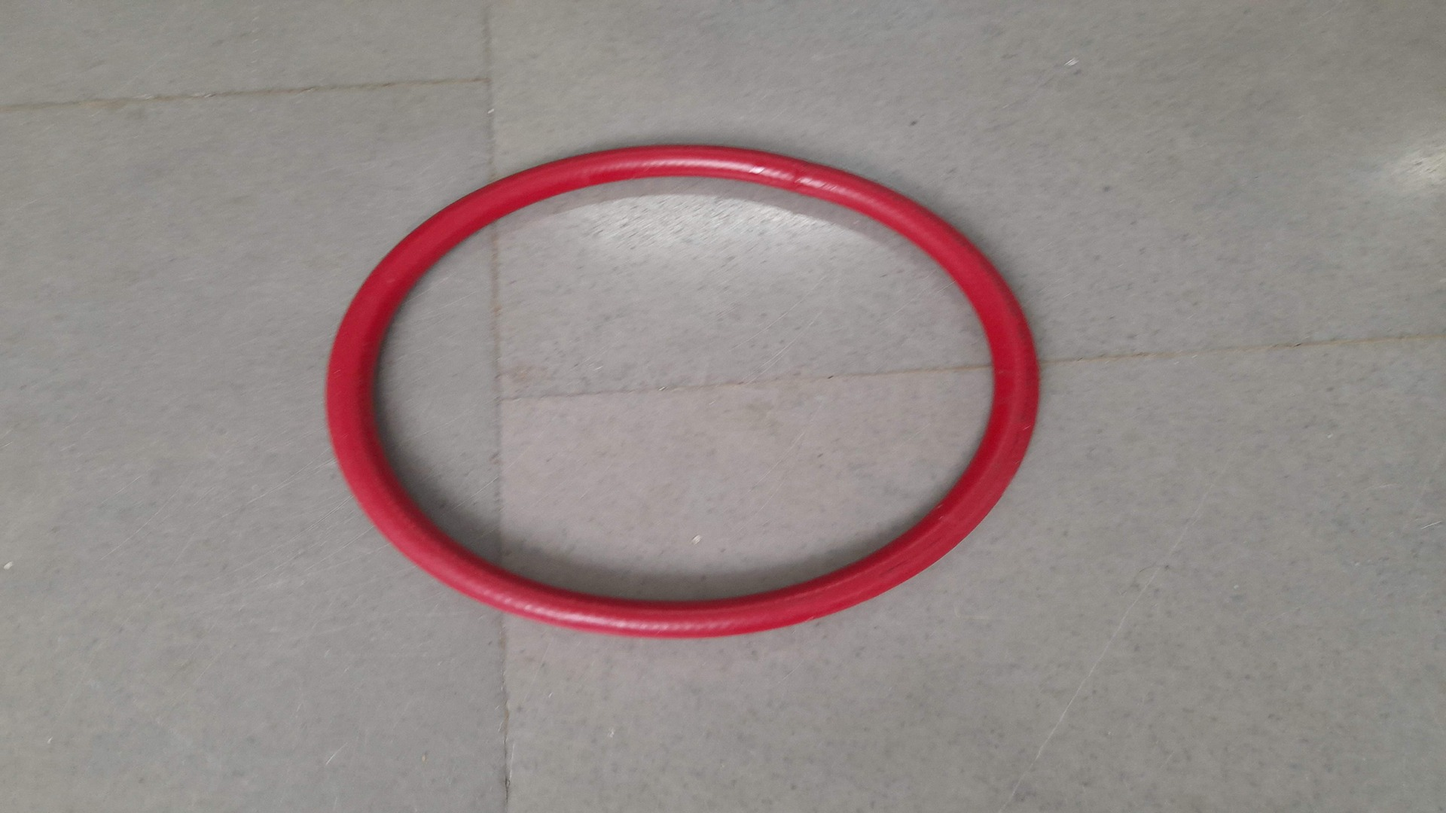Red ring: (326, 145, 1039, 632)
